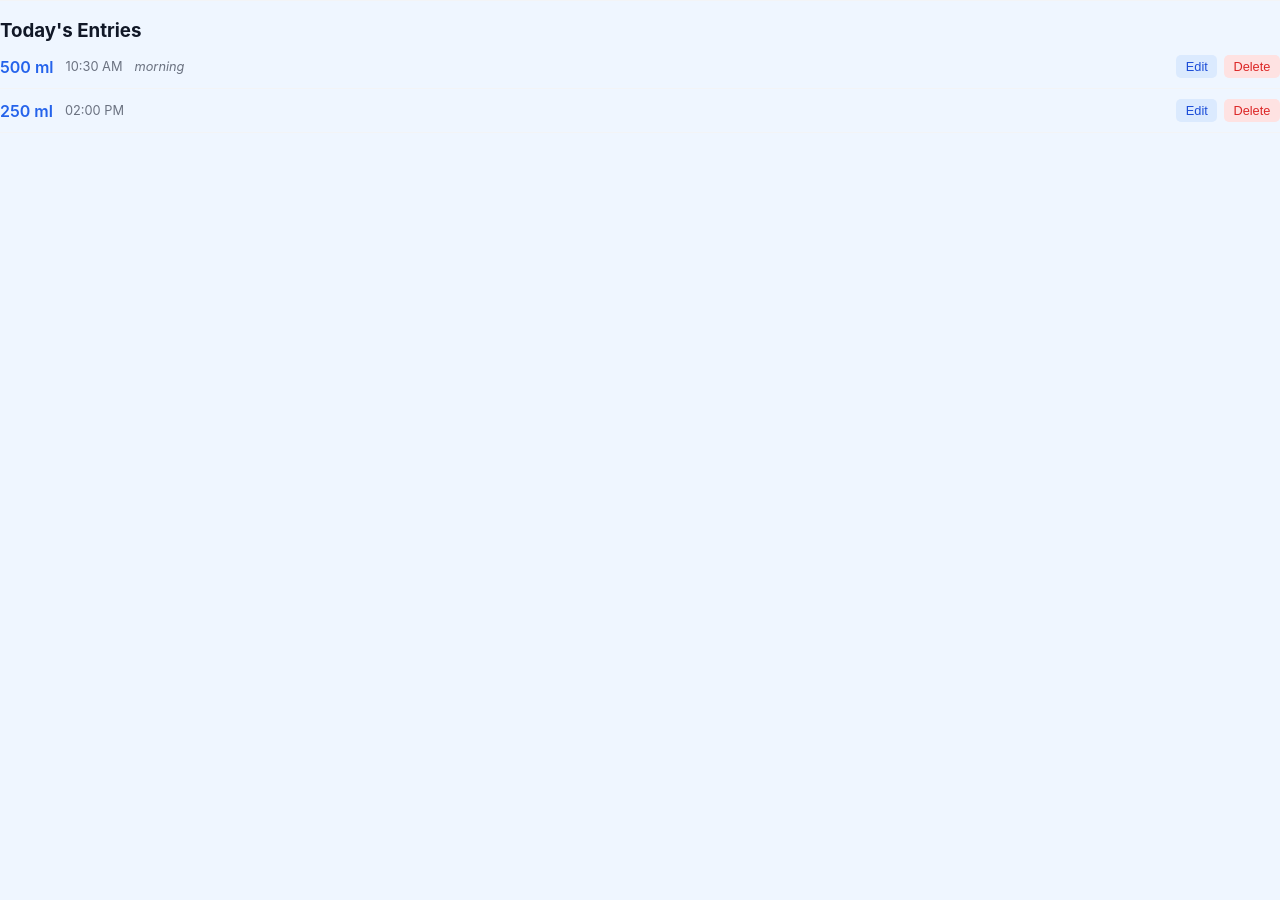
Test: EntryList › opens confirmation modal when Delete is clicked
This screenshot has width=1280, height=900.
Click the button "Delete" in the row of "morning" at (1252, 67), box [1224, 55, 1279, 78]
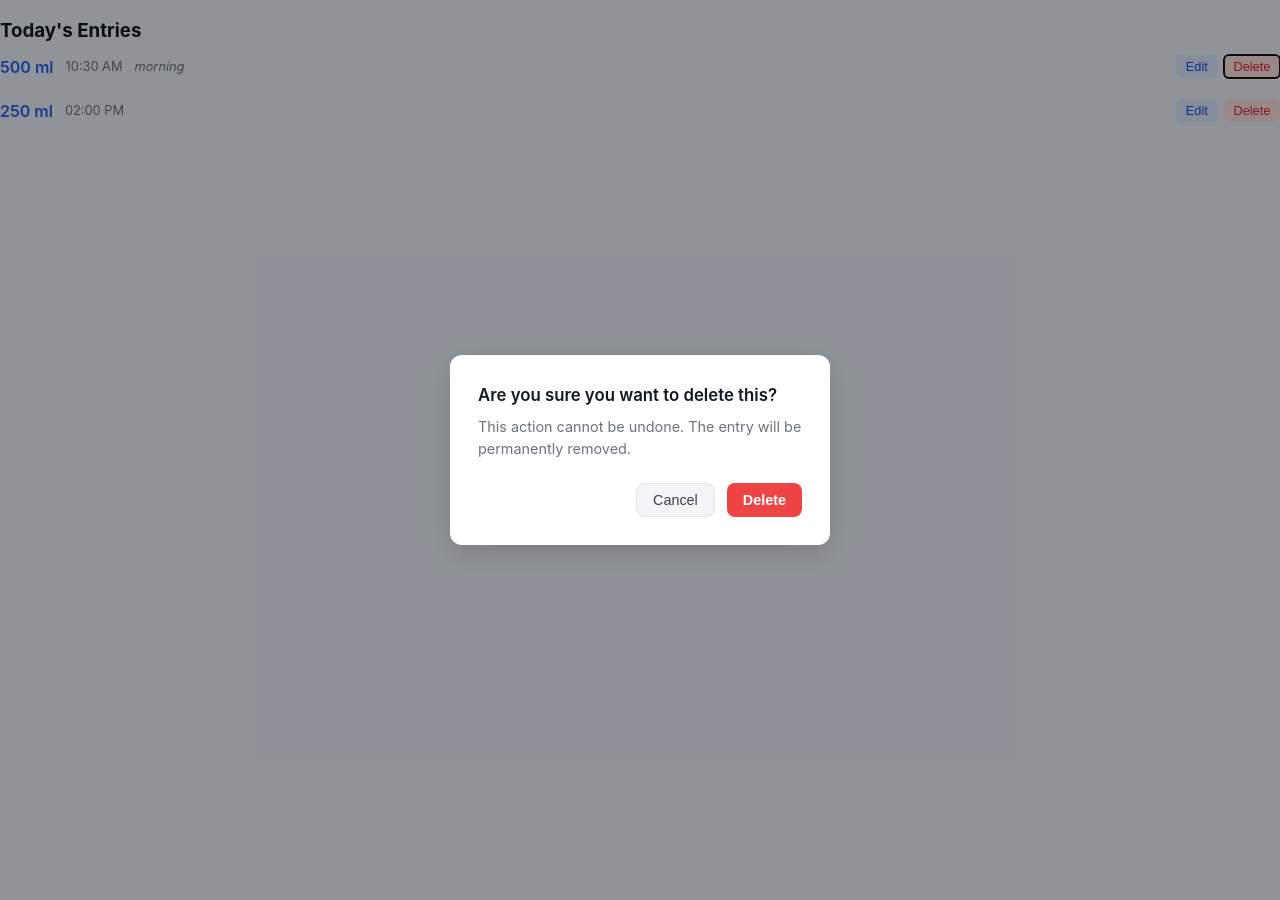
Result: the heading "Are you sure you want to delete this?" is shown at [478, 383, 802, 408]
Result: the text "cannot be undone" is shown at [478, 418, 801, 457]
Result: the dialog is shown at [450, 355, 830, 545]
